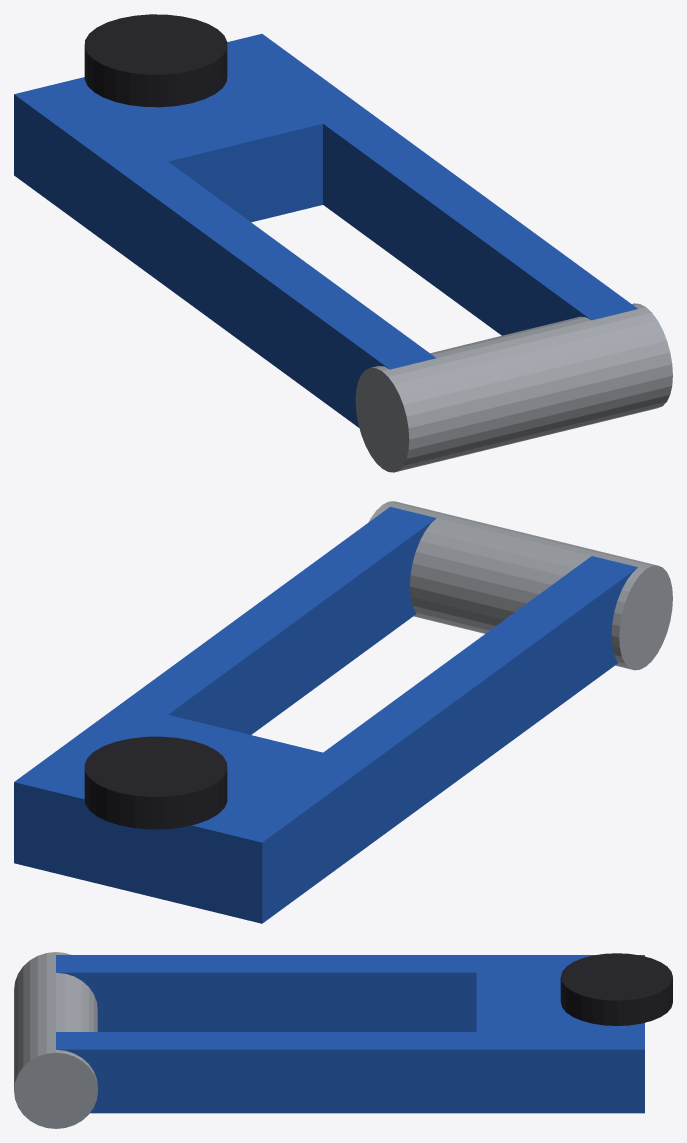
The model's file is Gato_brazo.obj.
3 renders of one model, top to bottom at view 1: azimuth 30°, elevation 25°; view 2: azimuth 150°, elevation 25°; view 3: azimuth 270°, elevation 25°, orthographic. The views are drawn at different scales.
Visible parts, largest first — view 1: Barra_-1, Barra_1, Buje, Travesano_silleta, Silleta; view 2: Travesano_silleta, Barra_-1, Barra_1, Buje, Silleta; view 3: Barra_1, Barra_-1, Travesano_silleta, Buje, Silleta.
Boxes of the visible parts, x1,y1,x2,y2 form: Barra_-1: [32, 96, 436, 427]; Barra_1: [234, 47, 637, 335]; Buje: [355, 303, 672, 472]; Travesano_silleta: [14, 34, 368, 253]; Silleta: [84, 14, 227, 107]; Travesano_silleta: [14, 703, 369, 923]; Barra_-1: [234, 556, 637, 910]; Barra_1: [32, 507, 436, 780]; Buje: [368, 501, 672, 670]; Silleta: [84, 736, 227, 829]; Barra_1: [56, 1032, 616, 1113]; Barra_-1: [56, 955, 595, 1031]; Travesano_silleta: [476, 955, 644, 1113]; Buje: [14, 952, 97, 1128]; Silleta: [560, 953, 672, 1025].
Bounding box in the file's own units: 0.17 × 0.08 × 0.47.
